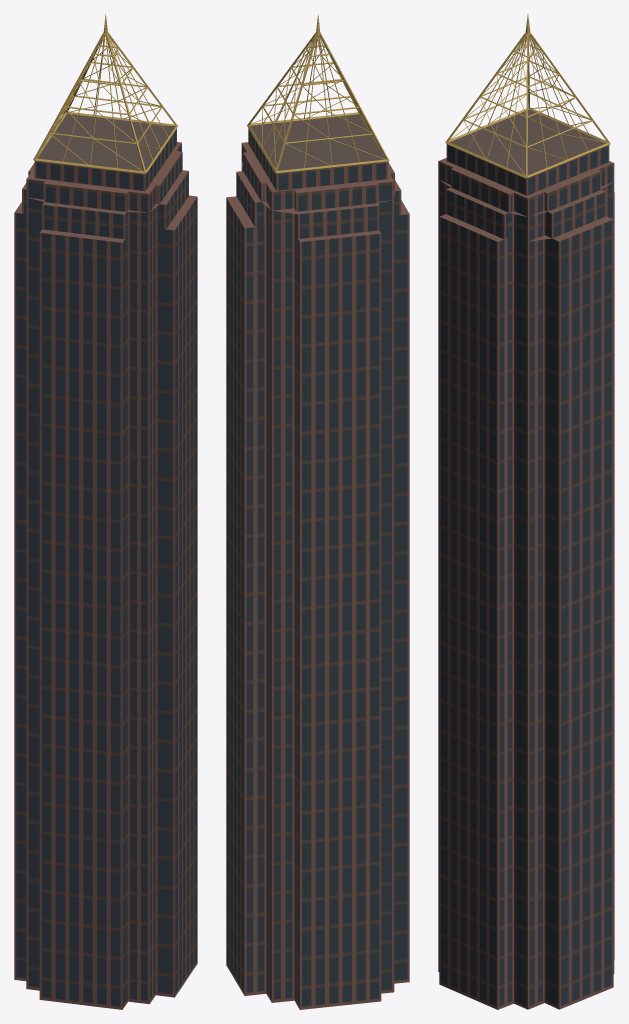
File: bank-of-america-plaza-atlanta-far.glb
The picture shows the model from 3 angles, left to right: view 1: azimuth 30°, elevation 25°; view 2: azimuth 150°, elevation 25°; view 3: azimuth 270°, elevation 25°; orthographic projection.
Parts seen in each view (by area): view 1: bank-of-america-plaza-atlanta-0-glass, bank-of-america-plaza-atlanta-0-granite, bank-of-america-plaza-atlanta-0-glow, bank-of-america-plaza-atlanta-0-spandrel, bank-of-america-plaza-atlanta-0-light, bank-of-america-plaza-atlanta-0-roof; view 2: bank-of-america-plaza-atlanta-0-glass, bank-of-america-plaza-atlanta-0-granite, bank-of-america-plaza-atlanta-0-glow, bank-of-america-plaza-atlanta-0-spandrel, bank-of-america-plaza-atlanta-0-light, bank-of-america-plaza-atlanta-0-roof; view 3: bank-of-america-plaza-atlanta-0-glass, bank-of-america-plaza-atlanta-0-granite, bank-of-america-plaza-atlanta-0-glow, bank-of-america-plaza-atlanta-0-spandrel, bank-of-america-plaza-atlanta-0-light, bank-of-america-plaza-atlanta-0-roof.
Boxes of the visible parts, x1,y1,x2,y2 form: bank-of-america-plaza-atlanta-0-glass: [16, 130, 196, 1006]; bank-of-america-plaza-atlanta-0-granite: [14, 129, 197, 1009]; bank-of-america-plaza-atlanta-0-glow: [16, 141, 196, 985]; bank-of-america-plaza-atlanta-0-spandrel: [16, 144, 196, 989]; bank-of-america-plaza-atlanta-0-light: [33, 14, 178, 174]; bank-of-america-plaza-atlanta-0-roof: [37, 113, 174, 170]; bank-of-america-plaza-atlanta-0-glass: [226, 141, 407, 1006]; bank-of-america-plaza-atlanta-0-granite: [226, 128, 409, 1009]; bank-of-america-plaza-atlanta-0-glow: [226, 129, 407, 986]; bank-of-america-plaza-atlanta-0-spandrel: [226, 144, 407, 989]; bank-of-america-plaza-atlanta-0-light: [247, 14, 389, 173]; bank-of-america-plaza-atlanta-0-roof: [250, 114, 385, 170]; bank-of-america-plaza-atlanta-0-glass: [440, 145, 612, 1005]; bank-of-america-plaza-atlanta-0-granite: [438, 144, 614, 1009]; bank-of-america-plaza-atlanta-0-glow: [440, 146, 612, 985]; bank-of-america-plaza-atlanta-0-spandrel: [440, 161, 612, 989]; bank-of-america-plaza-atlanta-0-light: [445, 14, 610, 178]; bank-of-america-plaza-atlanta-0-roof: [449, 109, 605, 175].
Size of the model in its own units: 53.07 by 312 by 51.98.
